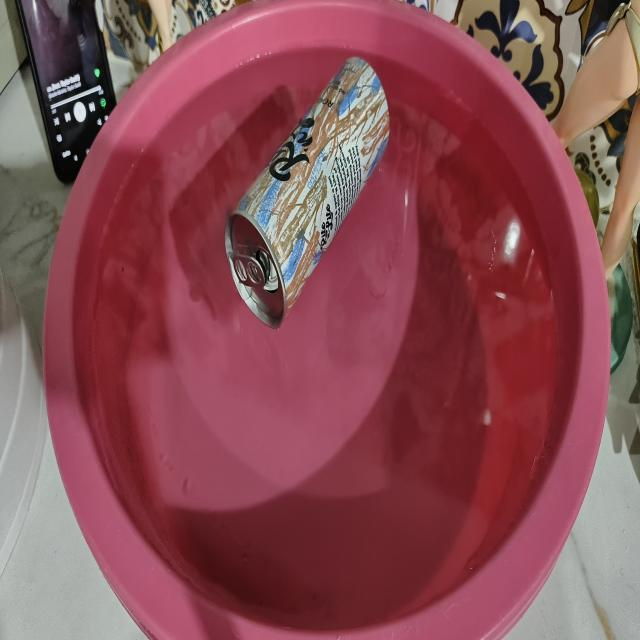Aluminum Can: (225, 58, 389, 328)
